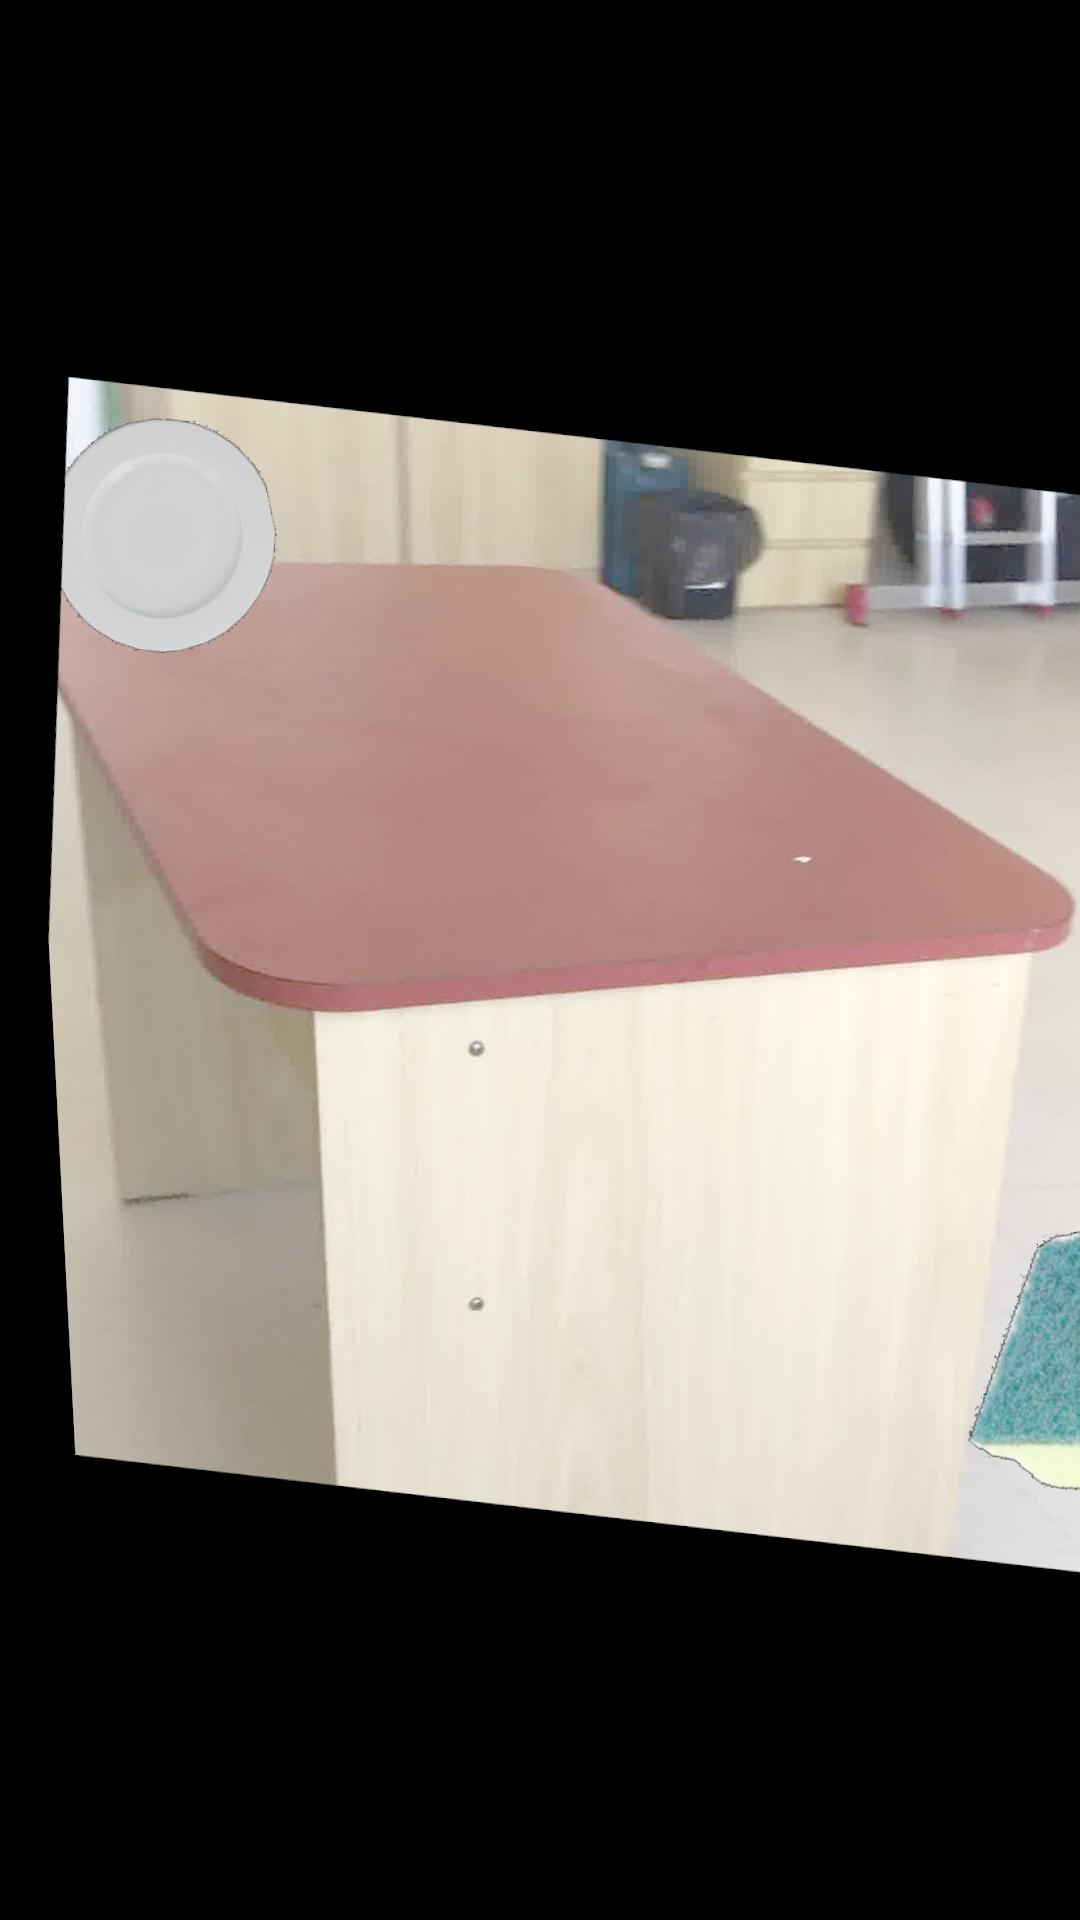plate: (54, 418, 272, 653)
sponge: (953, 1225, 1080, 1486)
